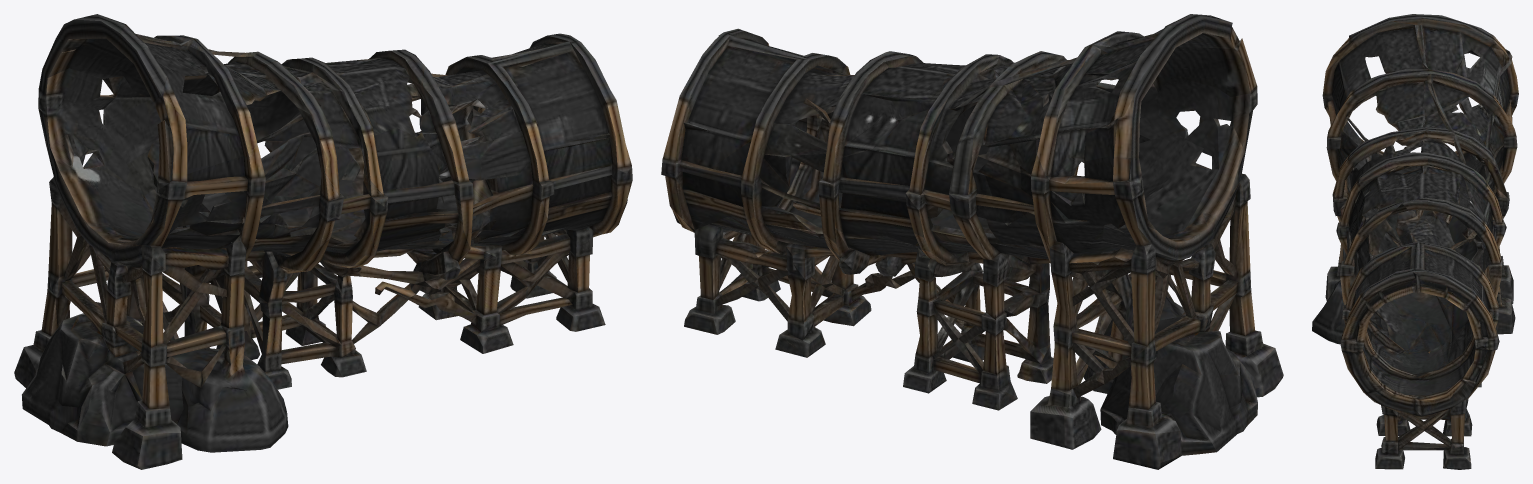
Rendered from stunt-corkscrew.glb.
The picture shows the model from 3 angles, left to right: view 1: azimuth 30°, elevation 25°; view 2: azimuth 150°, elevation 25°; view 3: azimuth 270°, elevation 25°; orthographic projection. The views are drawn at different scales.
Bounding box in the file's own units: 1.71 × 1.17 × 0.7648.
1 material, 1 textured.
